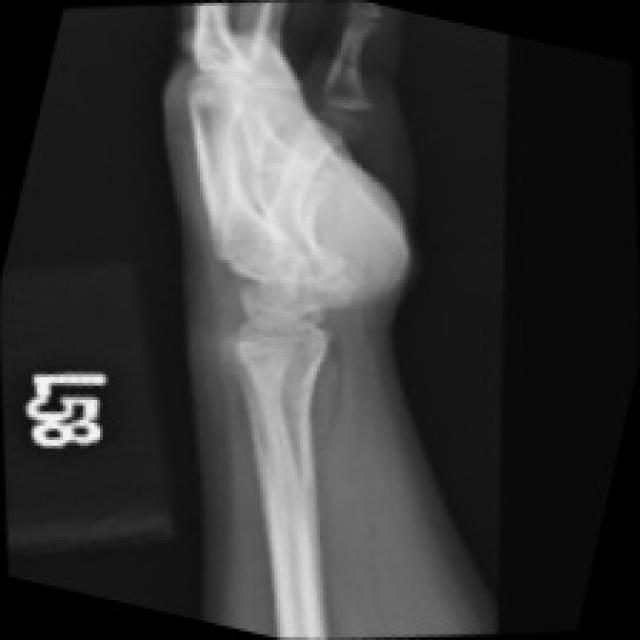fracture: (310, 56, 412, 161)
